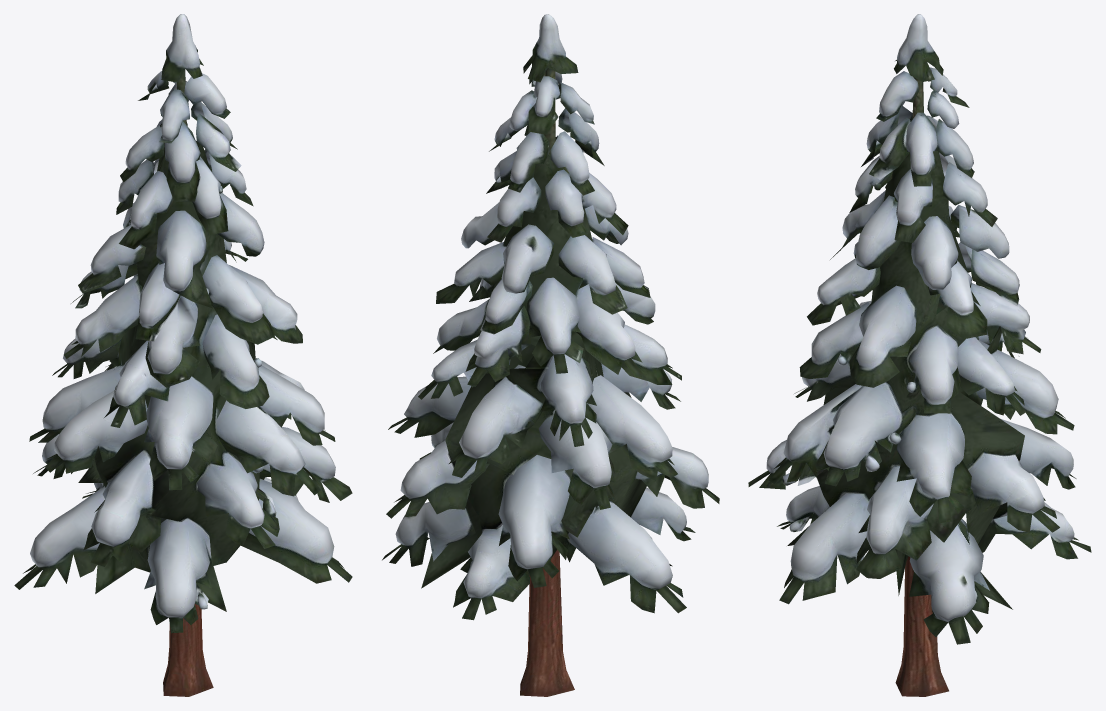
File: snowy-cedar.glb
3 views of the same model, side by side, from view 1: azimuth 30°, elevation 25°; view 2: azimuth 150°, elevation 25°; view 3: azimuth 270°, elevation 25° (orthographic).
Visible parts, largest first — view 1: tripo_node_eb993e38-53e5-4ae6-b636-b281161f9fee; view 2: tripo_node_eb993e38-53e5-4ae6-b636-b281161f9fee; view 3: tripo_node_eb993e38-53e5-4ae6-b636-b281161f9fee.
Boxes of the visible parts, x1,y1,x2,y2 form: tripo_node_eb993e38-53e5-4ae6-b636-b281161f9fee: (14,14,352,696); tripo_node_eb993e38-53e5-4ae6-b636-b281161f9fee: (382,14,719,696); tripo_node_eb993e38-53e5-4ae6-b636-b281161f9fee: (748,14,1091,696).
Size of the model in its own units: 2.79 by 6 by 2.78.
1 material, 1 textured.
